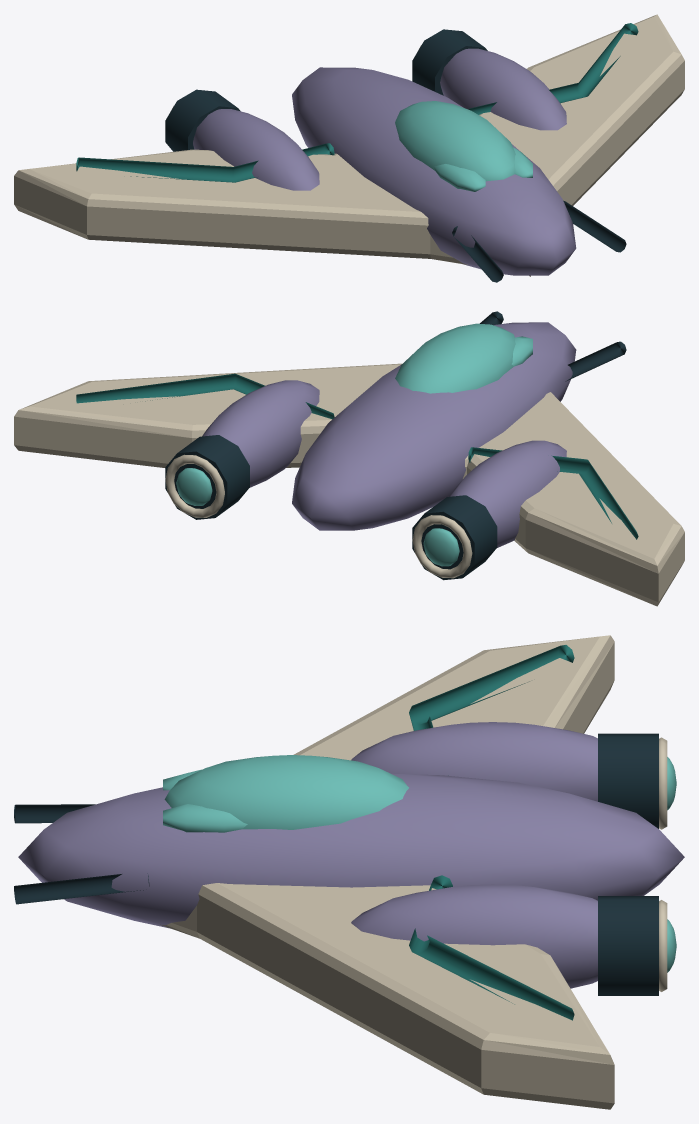
Rendered from alien-manta-lod1.glb.
3 views of the same model, one above another, from view 1: azimuth 30°, elevation 25°; view 2: azimuth 150°, elevation 25°; view 3: azimuth 270°, elevation 25° (orthographic). The views are drawn at different scales.
Parts seen in each view (by area): view 1: shell, emission; view 2: shell, emission; view 3: shell, emission.
Boxes of the visible parts, x1=… form: shell: x1=14, y1=14, x2=684, y2=282; emission: x1=395, y1=101, x2=532, y2=191; shell: x1=14, y1=311, x2=684, y2=606; emission: x1=176, y1=323, x2=532, y2=566; shell: x1=14, y1=635, x2=684, y2=1109; emission: x1=163, y1=755, x2=676, y2=972.
Size of the model in its own units: 3.55 by 0.65 by 2.37.
